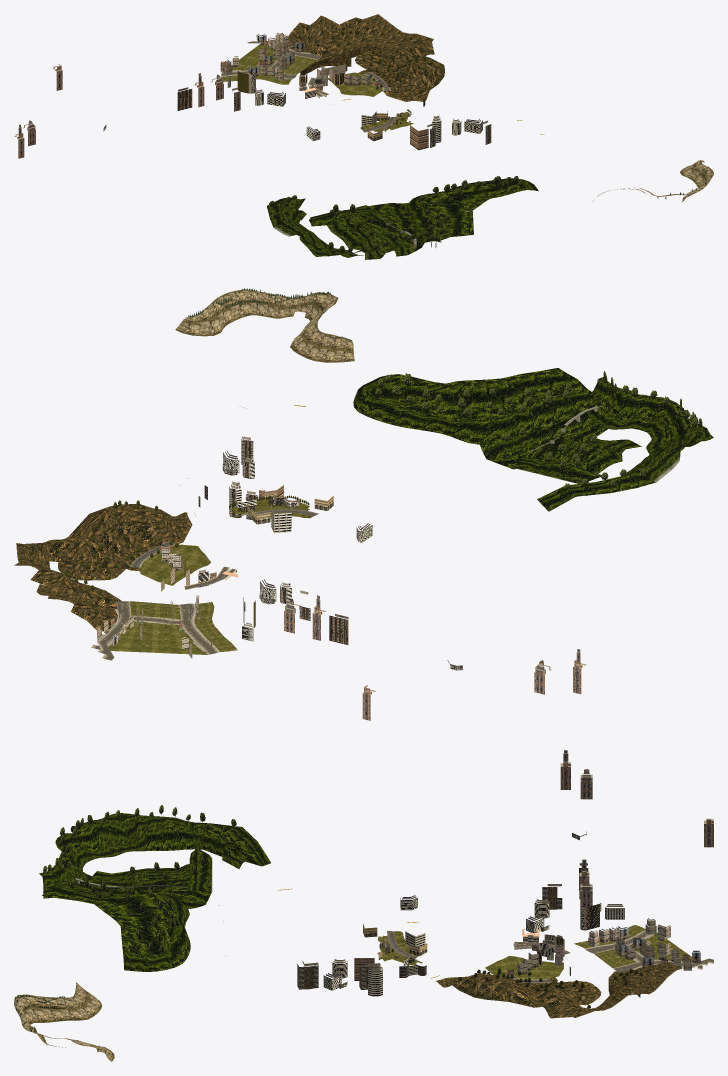
The model's file is track-B2_C5_V2_env.glb.
The picture shows the model from 3 angles, top to bottom: view 1: azimuth 30°, elevation 25°; view 2: azimuth 150°, elevation 25°; view 3: azimuth 270°, elevation 25°; orthographic projection. The views are drawn at different scales.
Parts seen in each view (by area): view 1: B2_C5_V2_env; view 2: B2_C5_V2_env; view 3: B2_C5_V2_env.
Part boxes in pixels (x1,y1,x2,y2): B2_C5_V2_env: (14, 14, 713, 259); B2_C5_V2_env: (14, 288, 713, 720); B2_C5_V2_env: (14, 750, 713, 1061).
Bounding box in the file's own units: 3290 × 330 × 3360.
Materials: 9 (9 with a texture image).
